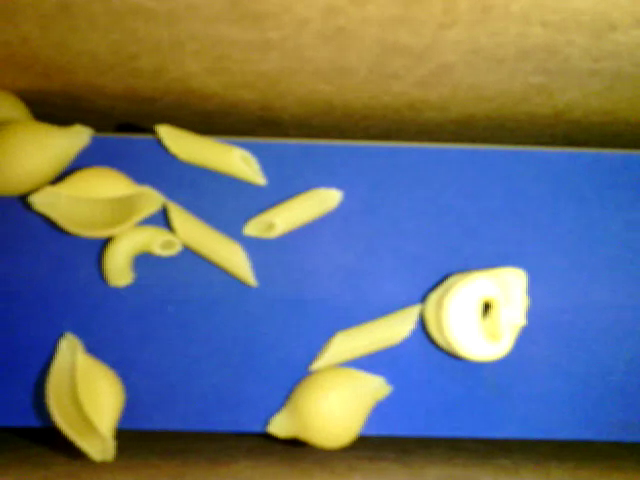elbow: (92, 225, 181, 291)
penne: (166, 197, 258, 293), (153, 116, 266, 186), (309, 306, 421, 371), (239, 178, 344, 244)
shell: (40, 331, 126, 463), (27, 167, 169, 240), (262, 369, 397, 445), (5, 121, 95, 199), (3, 89, 37, 132)
tortellini: (424, 263, 532, 364)
